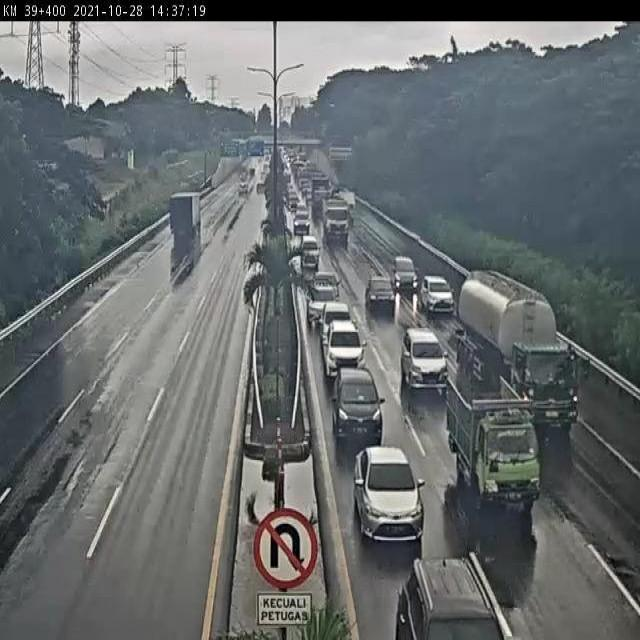small truck: (449, 260, 586, 455)
